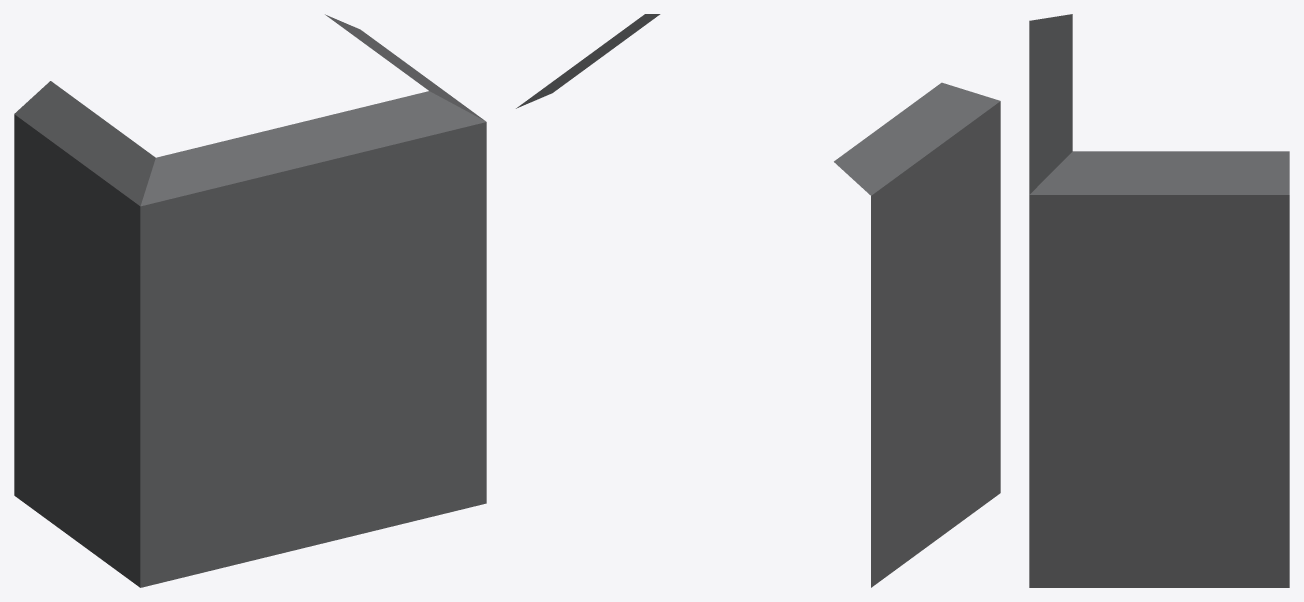
The model's file is SM_Foundation_Corner_Pillar_C.gltf.
3 renders of one model, left to right at view 1: azimuth 30°, elevation 25°; view 2: azimuth 150°, elevation 25°; view 3: azimuth 270°, elevation 25°, orthographic. The views are drawn at different scales.
Visible parts, largest first — view 1: SM_Foundation_Corner_Pillar_C; view 2: SM_Foundation_Corner_Pillar_C; view 3: SM_Foundation_Corner_Pillar_C.
Boxes of the visible parts, x1,y1,x2,y2 form: SM_Foundation_Corner_Pillar_C: (14,14,486,587); SM_Foundation_Corner_Pillar_C: (516,14,1000,587); SM_Foundation_Corner_Pillar_C: (1029,14,1289,587).
Bounding box in the file's own units: 0.38 × 0.4256 × 0.24.
Materials: 1 (1 with a texture image).
